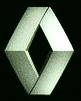Renault: (2, 3, 77, 98)
